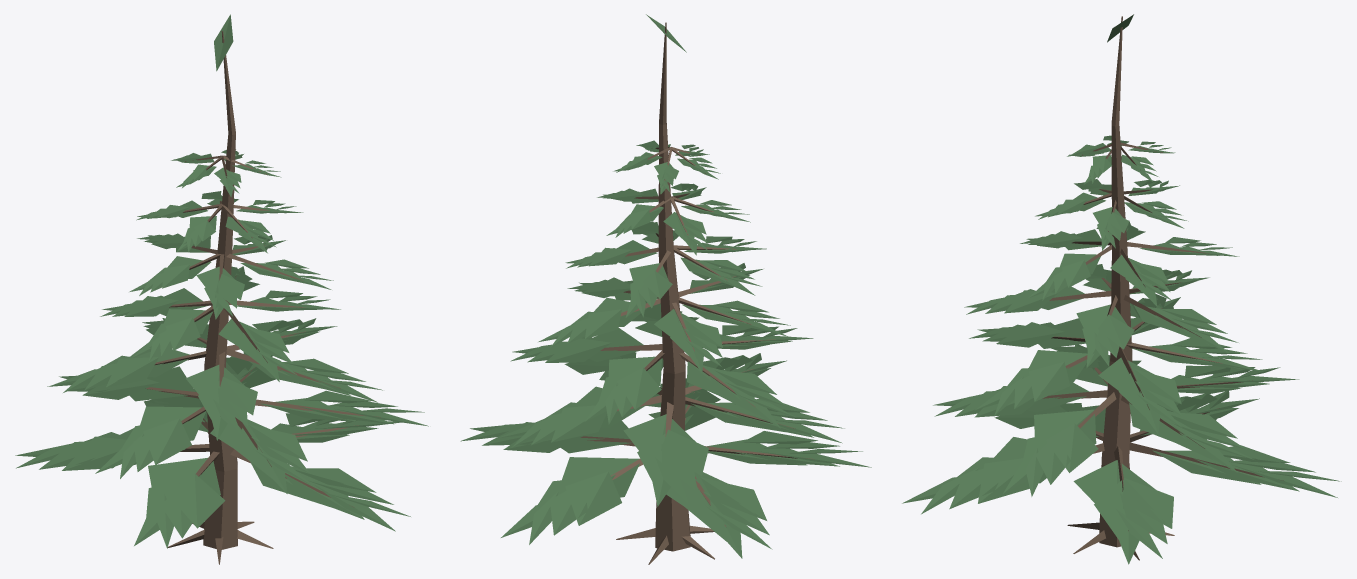
The model's file is hemlock-lod1.glb.
The picture shows the model from 3 angles, left to right: view 1: azimuth 30°, elevation 25°; view 2: azimuth 150°, elevation 25°; view 3: azimuth 270°, elevation 25°; orthographic projection. The views are drawn at different scales.
Visible parts, largest first — view 1: tree_hemlock_LOD1; view 2: tree_hemlock_LOD1; view 3: tree_hemlock_LOD1.
Boxes of the visible parts, x1,y1,x2,y2 form: tree_hemlock_LOD1: (15,14,428,564); tree_hemlock_LOD1: (460,14,871,564); tree_hemlock_LOD1: (902,14,1341,564).
Size of the model in its own units: 9.59 by 13.75 by 10.3.
